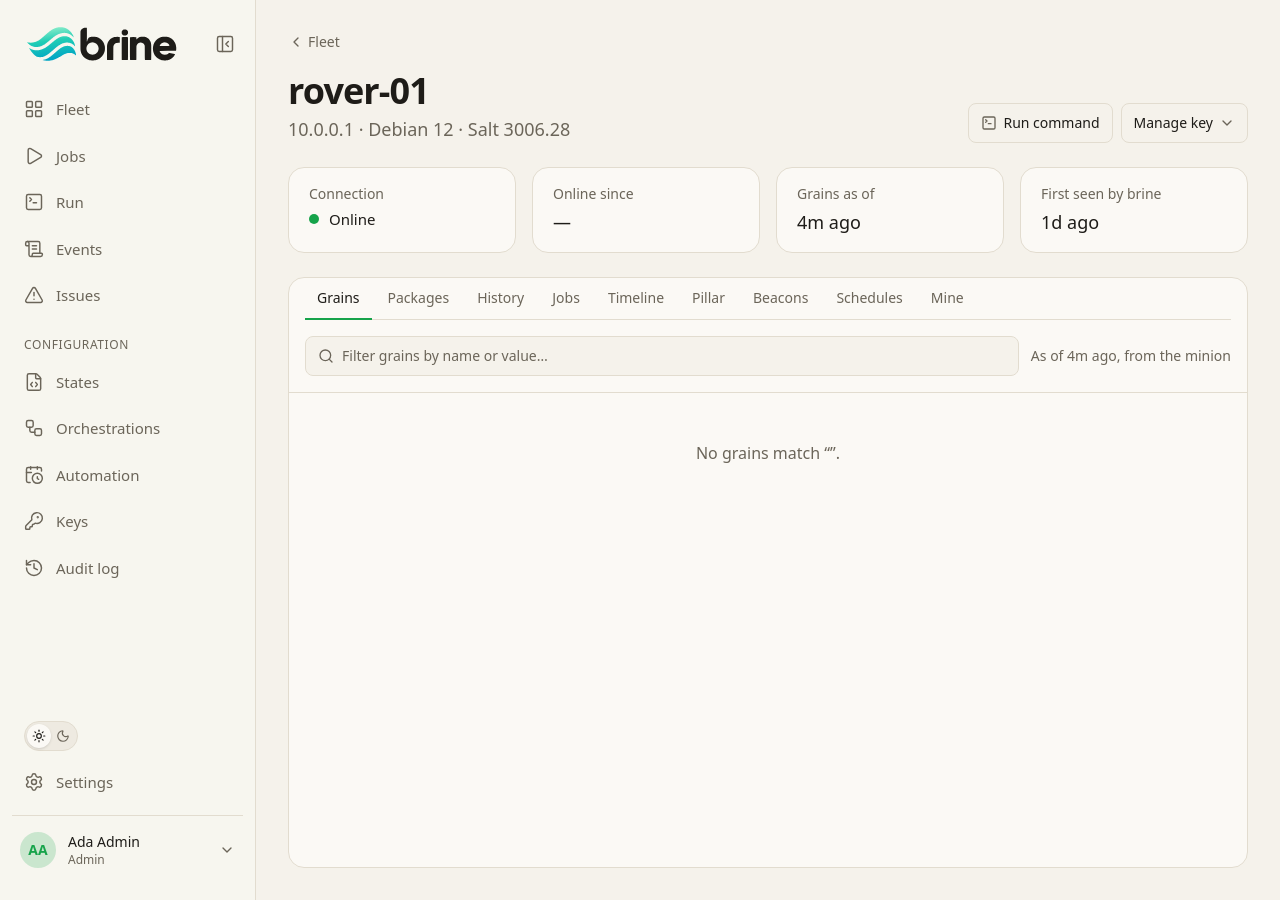
key management › deletes from the minion page and lands on Keys
Click the button "Manage key".
click(1184, 123)  # box [1121,103,1248,143]
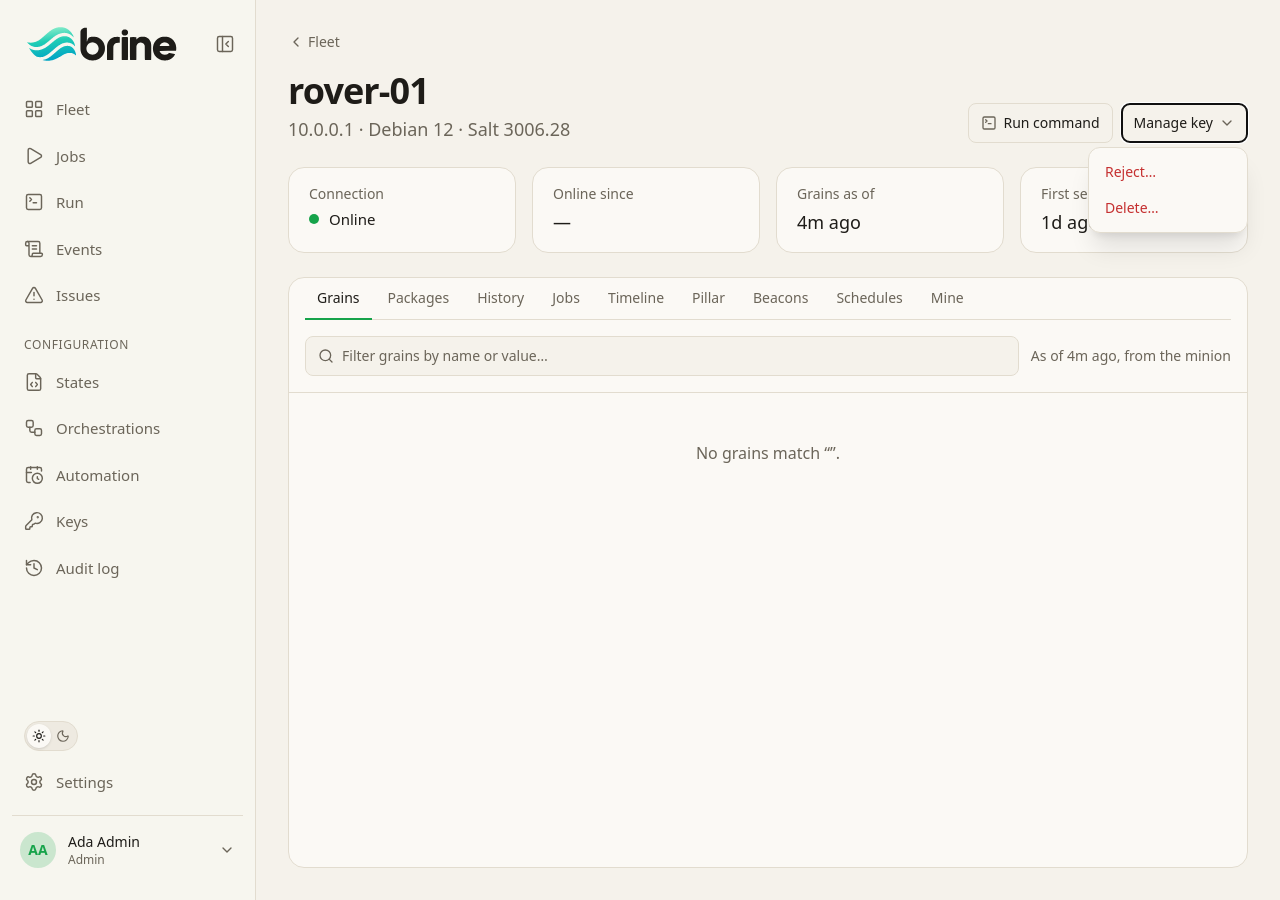
Now the menu items read "Reject…", "Delete…", in this order
Click the menu item "Delete…".
click(1168, 208)  # box [1095,190,1241,226]
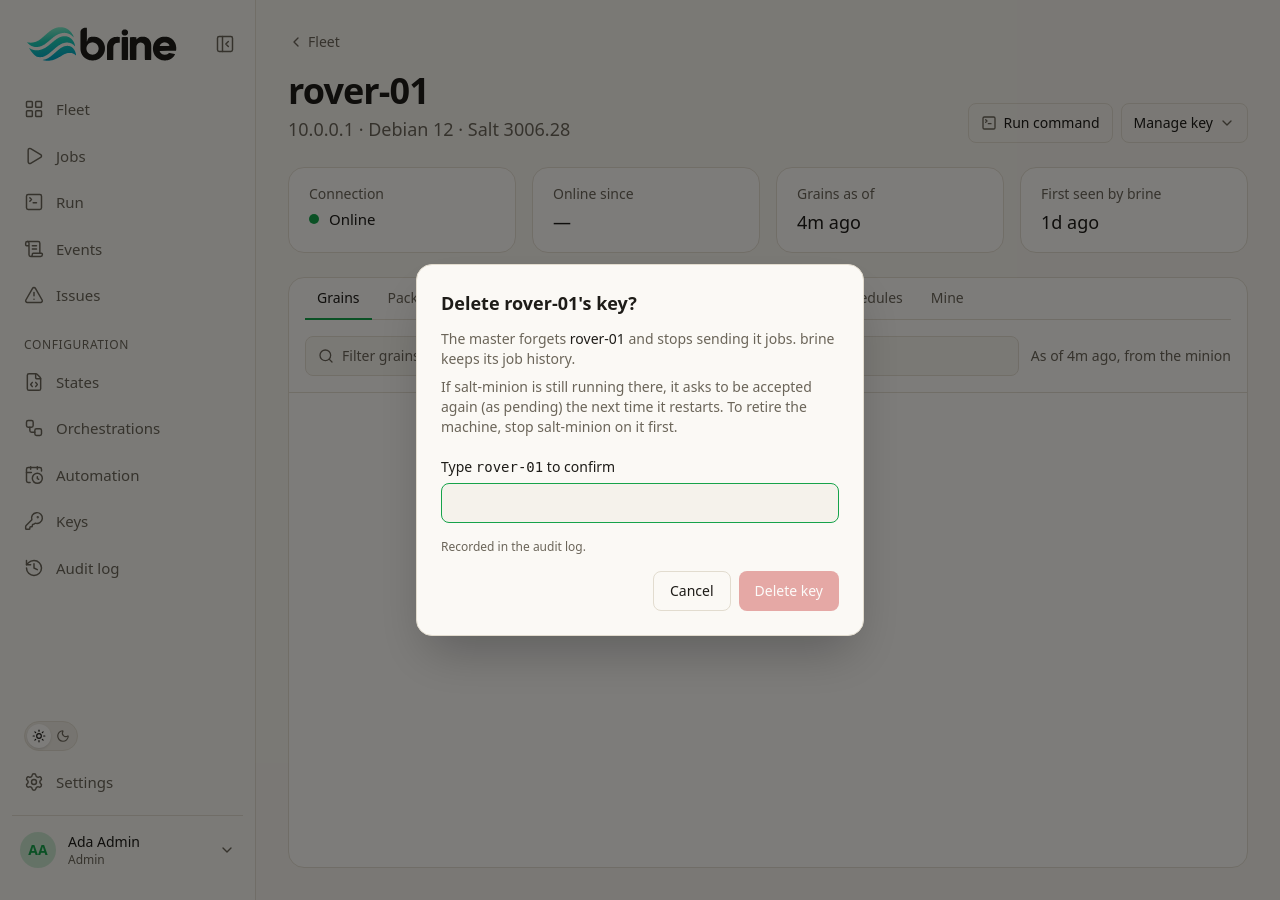
Type "rover-01" into the field.
click(640, 503); type("rover-01")  # box [441,483,839,523]
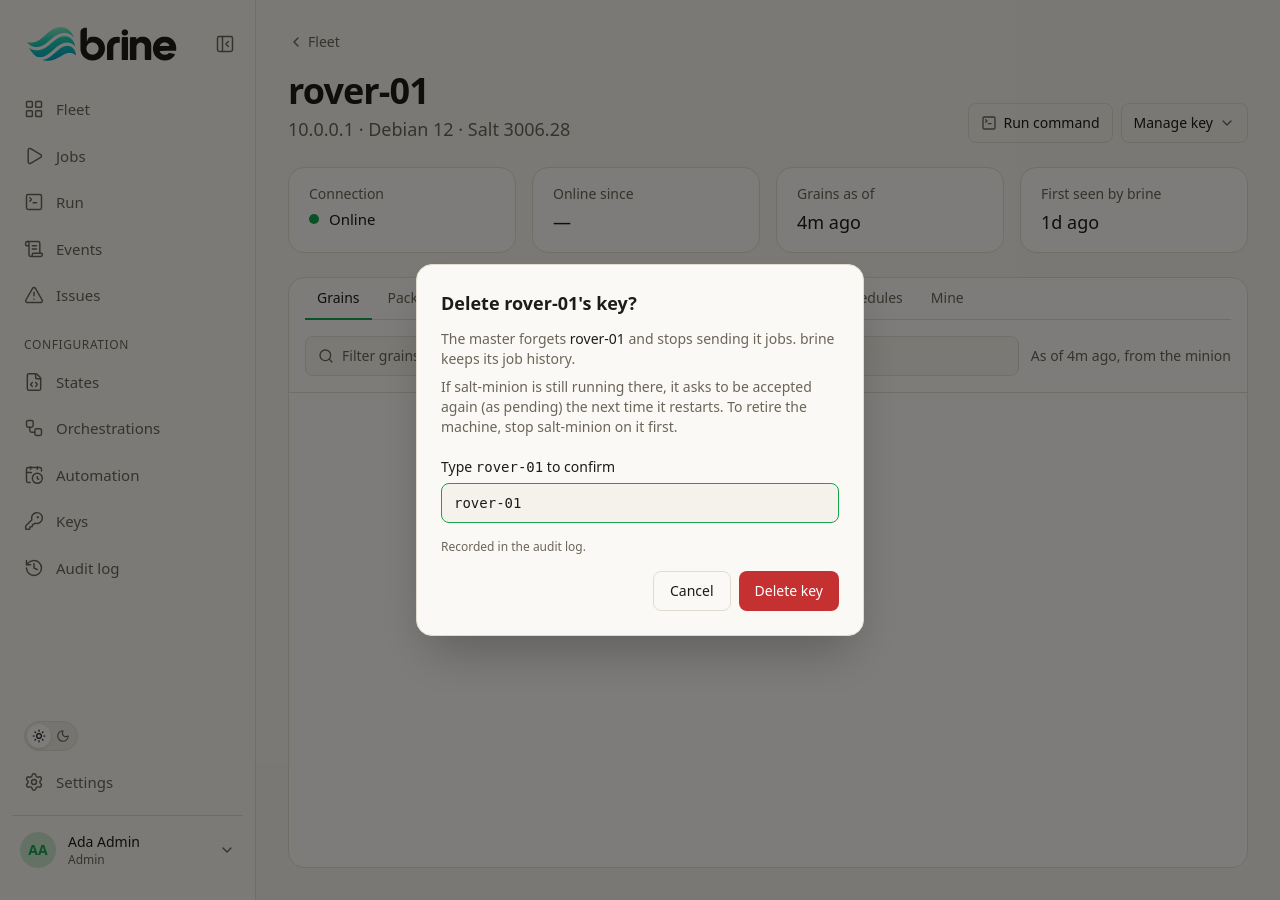
Click the button "Delete key".
click(789, 591)  # box [738,571,839,611]
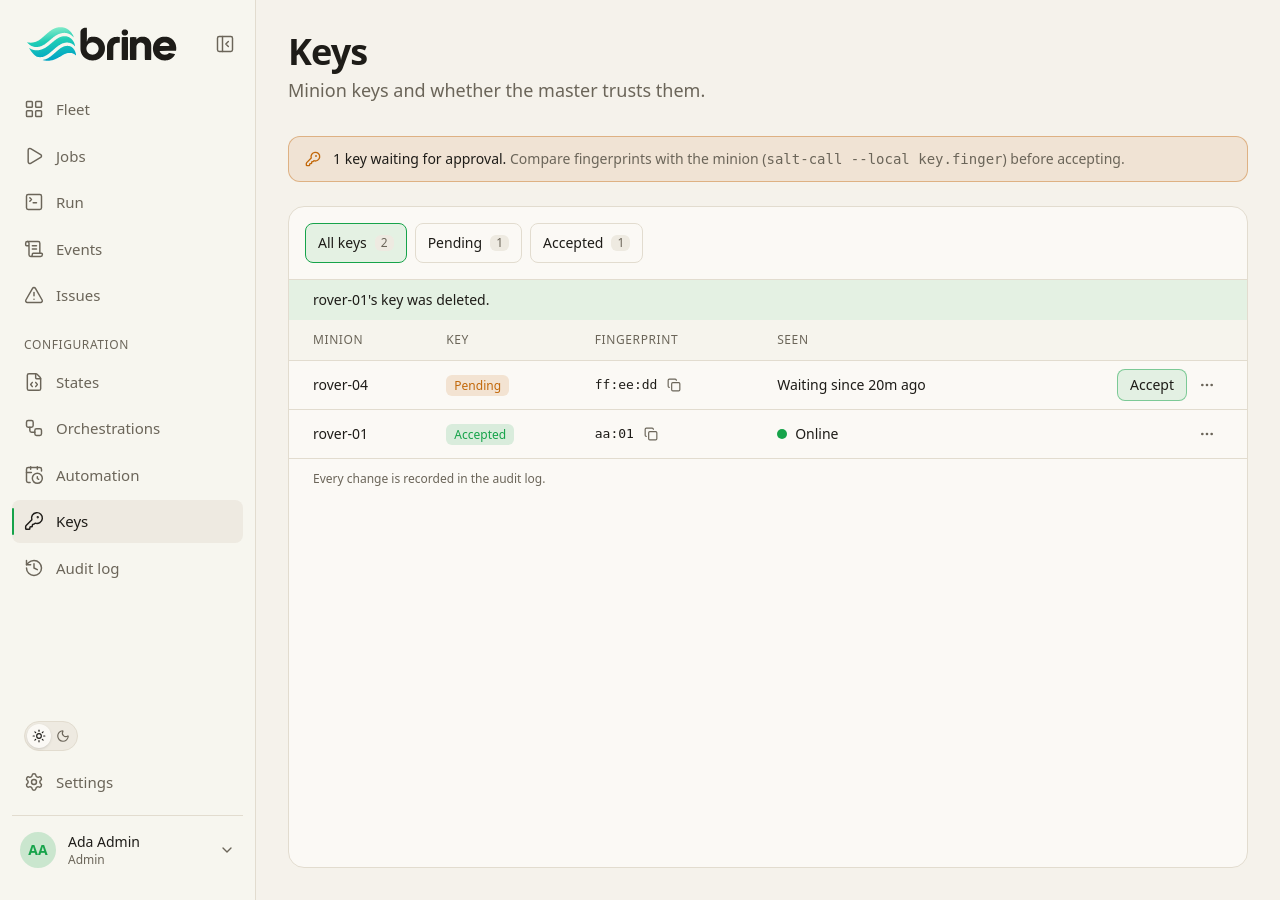
Now the message reads "rover-01's key was deleted.", box [313,290,490,309]
